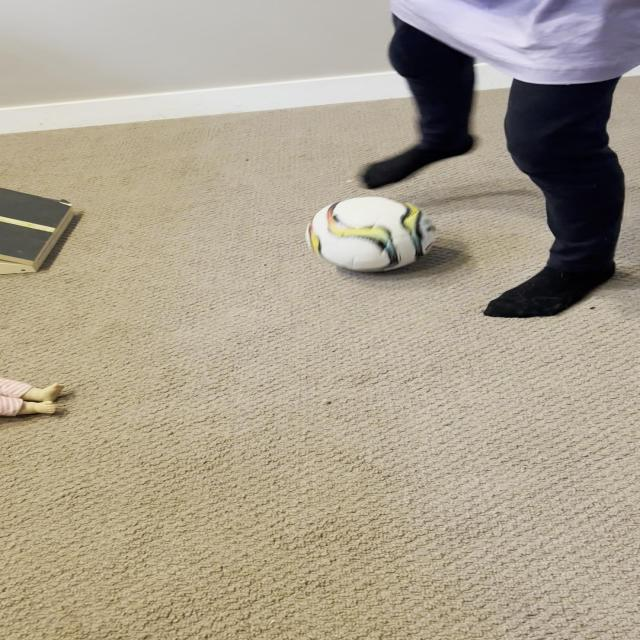Soccer Ball: (310, 195, 437, 274)
